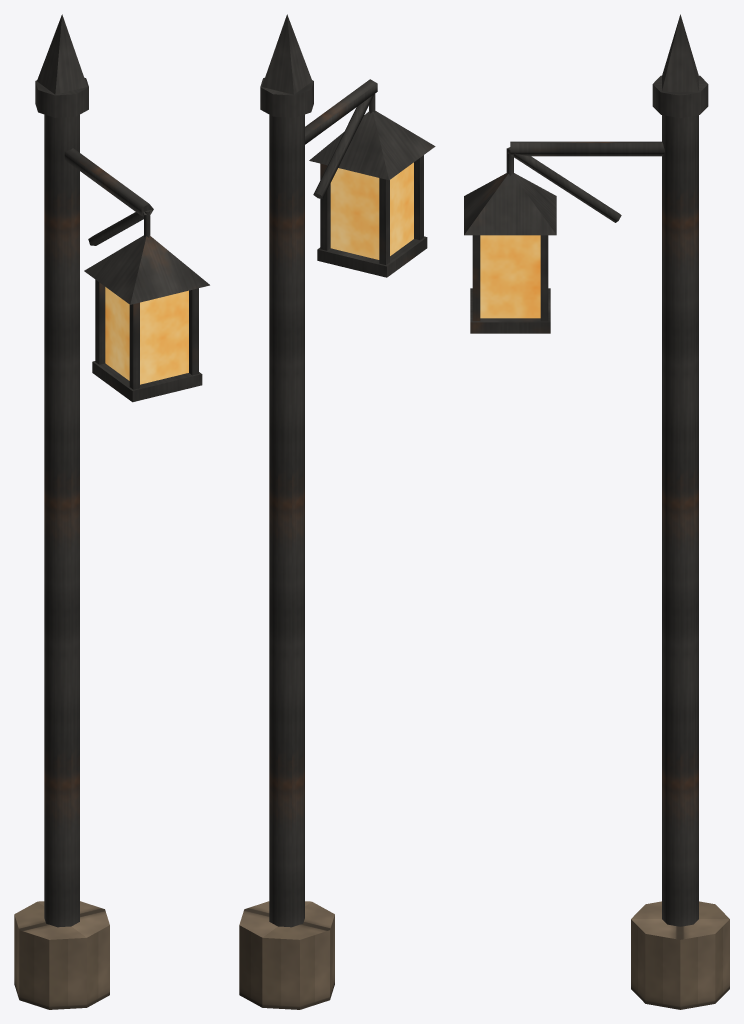
The model's file is street_lantern.gltf.
The picture shows the model from 3 angles, left to right: view 1: azimuth 30°, elevation 25°; view 2: azimuth 150°, elevation 25°; view 3: azimuth 270°, elevation 25°; orthographic projection.
Parts seen in each view (by area): view 1: street_lantern_mesh; view 2: street_lantern_mesh; view 3: street_lantern_mesh.
Boxes of the visible parts, x1,y1,x2,y2 form: street_lantern_mesh: (14,14,209,1009); street_lantern_mesh: (239,14,435,1009); street_lantern_mesh: (464,14,729,1009).
Size of what is drawn, in the model's own units: 0.32 by 3.48 by 0.86.
Materials: 3 (3 with a texture image).
